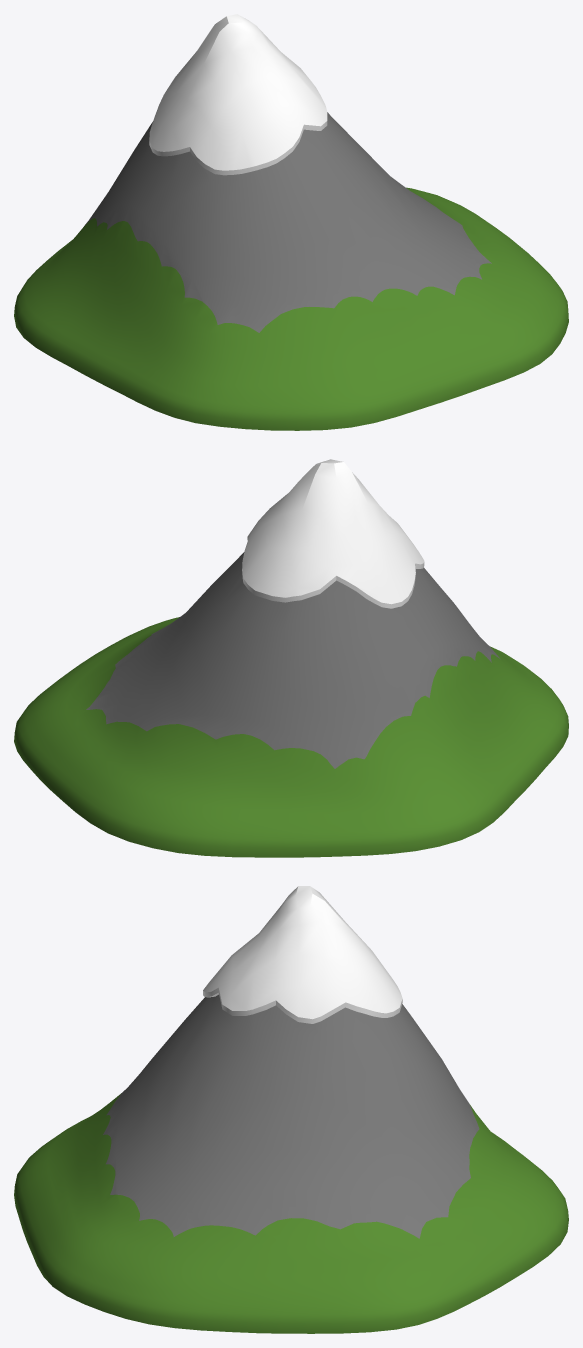
File: snow_capped_mountain.glb
3 renders of one model, top to bottom at view 1: azimuth 30°, elevation 25°; view 2: azimuth 150°, elevation 25°; view 3: azimuth 270°, elevation 25°, orthographic. The views are drawn at different scales.
Parts seen in each view (by area): view 1: Cube.456; view 2: Cube.456; view 3: Cube.456.
Part boxes in pixels (left/top/right/bottom): Cube.456: left=14, top=14, right=568, bottom=430; Cube.456: left=14, top=459, right=568, bottom=857; Cube.456: left=14, top=886, right=568, bottom=1333.
Size of the model in its own units: 2.39 by 1.51 by 2.47.
Materials: 1 (1 with a texture image).
